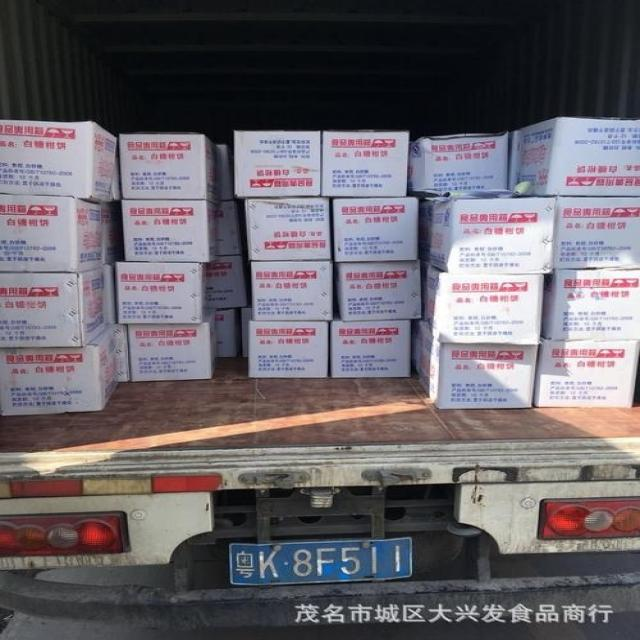box: (417, 322, 539, 409), (1, 329, 118, 416), (421, 264, 544, 345), (0, 119, 117, 203), (515, 117, 639, 196), (429, 197, 556, 274), (1, 266, 107, 348), (0, 193, 104, 272), (533, 336, 639, 408), (120, 131, 221, 206), (543, 265, 639, 340), (126, 309, 218, 382), (553, 196, 639, 269), (121, 200, 220, 263), (407, 132, 509, 190), (234, 130, 321, 197), (321, 130, 409, 196), (116, 262, 207, 324), (333, 197, 419, 262), (245, 197, 331, 260), (337, 260, 422, 321), (331, 316, 411, 378), (251, 261, 334, 320), (249, 321, 328, 378), (205, 256, 246, 309), (107, 324, 130, 382), (220, 201, 241, 255), (216, 309, 236, 357), (218, 145, 234, 201), (103, 202, 116, 264), (105, 263, 117, 324)
